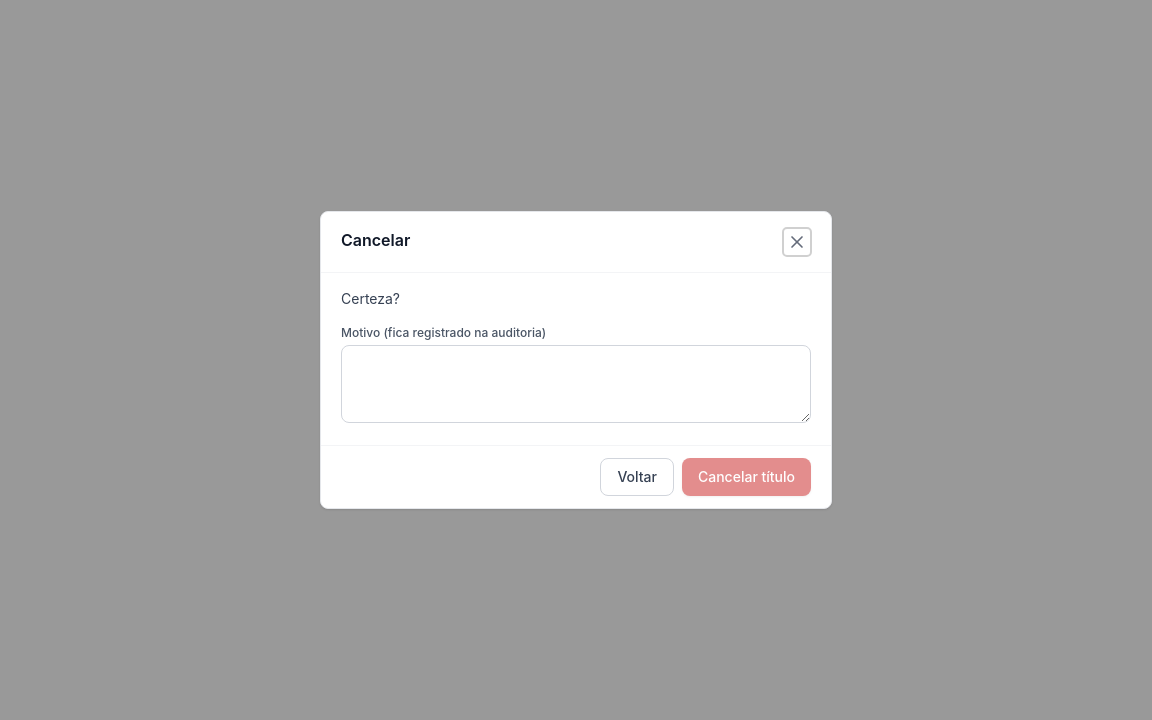
Scenario: ConfirmarComMotivo: falha do callback › valor que não é Error vira a mensagem padrão
The width and height of the screenshot is (1152, 720).
Type "Lançado em duplicidade" into the text box labelled "Motivo (fica registrado na auditoria)" at (576, 384), box [341,345,811,423]
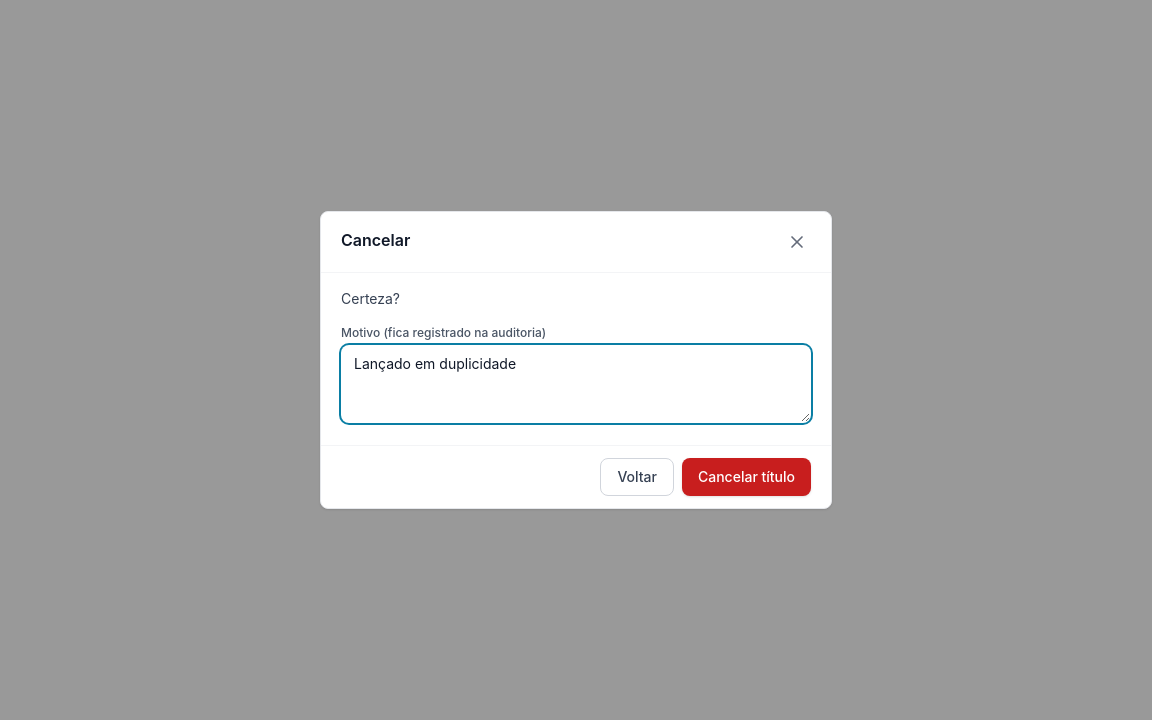
Click the button "Cancelar título" at (746, 477), box [682,458,811,496]
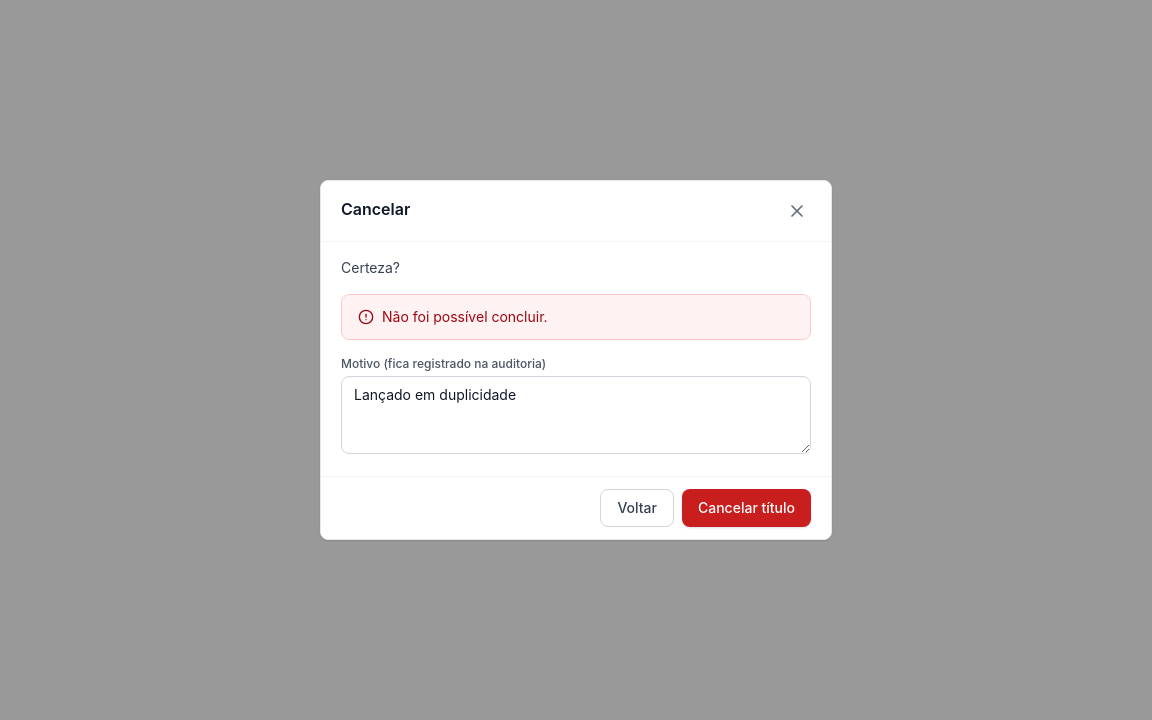
Now the message reads "Não foi possível concluir.", box [382,308,548,325]
